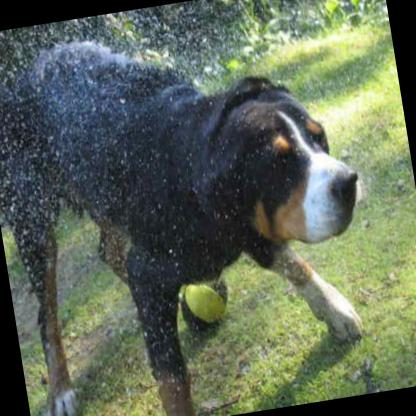EntleBucher: (0, 0, 391, 416)
